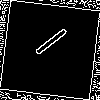I: (25, 25, 70, 65)
